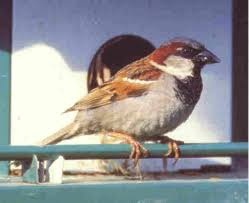hsparrow: (34, 35, 223, 163)
